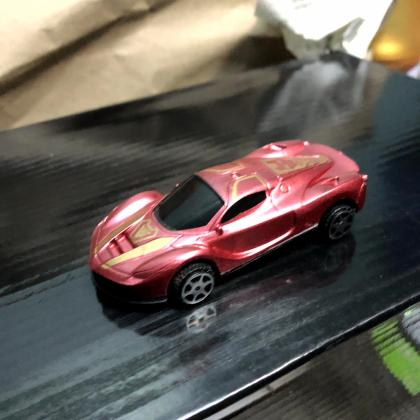Car: (89, 140, 368, 309)
